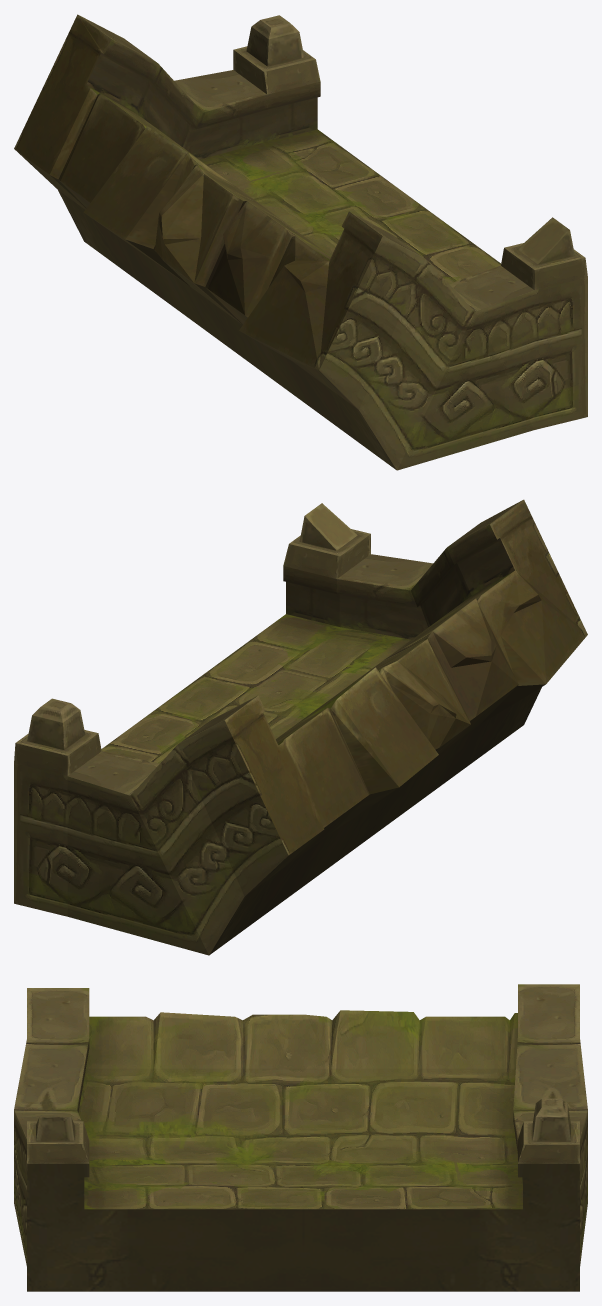
Rendered from stone_bridge_destroyed_02.fbx.
3 views of the same model, one above another, from view 1: azimuth 30°, elevation 25°; view 2: azimuth 150°, elevation 25°; view 3: azimuth 270°, elevation 25° (orthographic). The views are drawn at different scales.
Parts seen in each view (by area): view 1: obj3.002; view 2: obj3.002; view 3: obj3.002.
Part boxes in pixels (x1,y1,x2,y2): obj3.002: [14, 14, 587, 470]; obj3.002: [14, 499, 587, 955]; obj3.002: [14, 984, 587, 1291].
Bounding box in the file's own units: 3.37 × 2.56 × 6.23.
